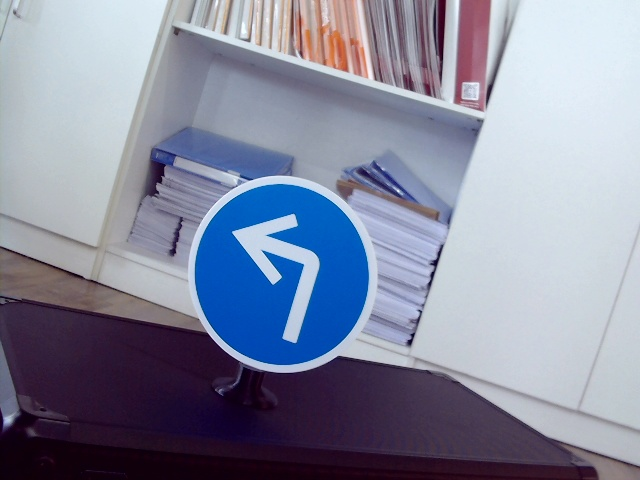turn_left: (230, 209, 325, 347)
